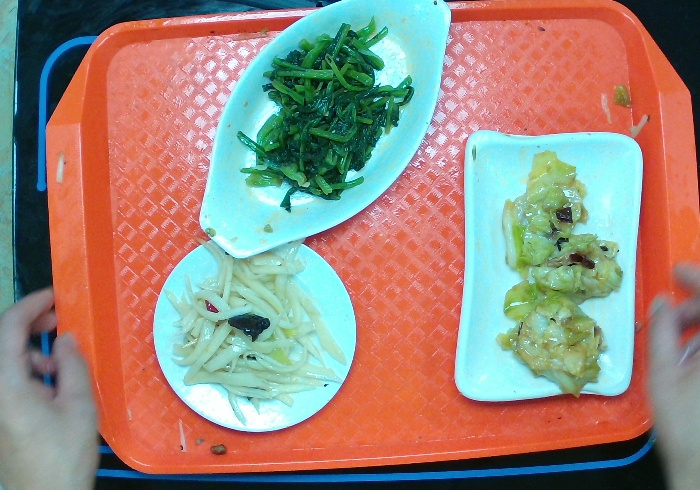RJxy-Si_Fang_Ao_Bian_Wan: (462, 126, 645, 411)
RJxy-Xiao_Yuan_Die: (155, 232, 356, 429)
RJxy-Yu_Pan: (201, 1, 454, 262)
